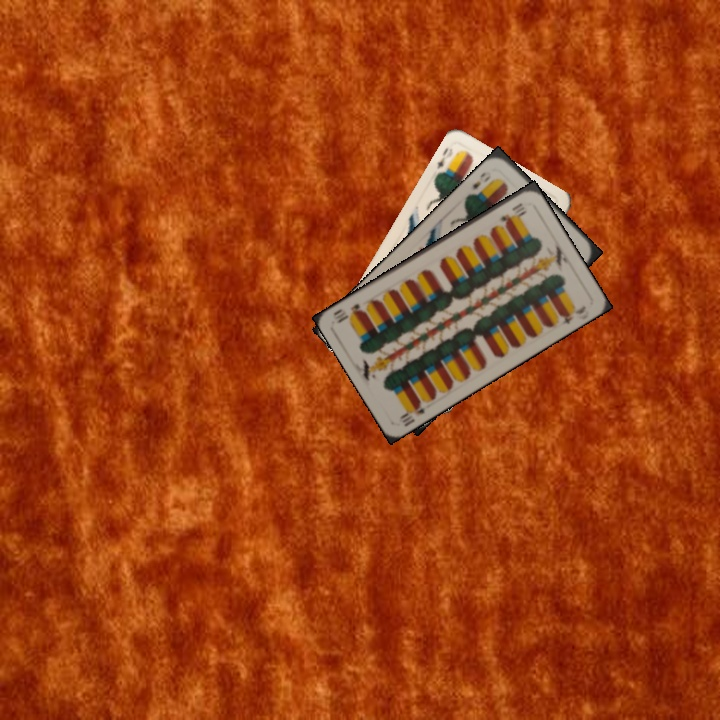E10: (396, 397, 428, 429), (495, 199, 528, 225)
EO: (432, 143, 456, 178), (468, 168, 494, 193)
